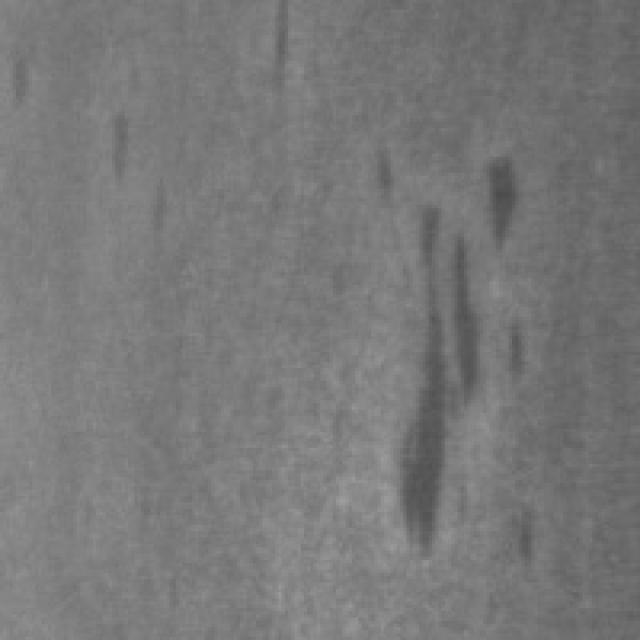inclusion: (380, 182, 490, 573), (90, 99, 192, 243), (470, 140, 541, 266), (250, 0, 304, 115)
